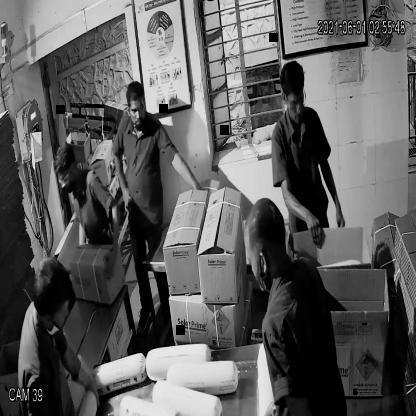goggles: (280, 88, 308, 112)
